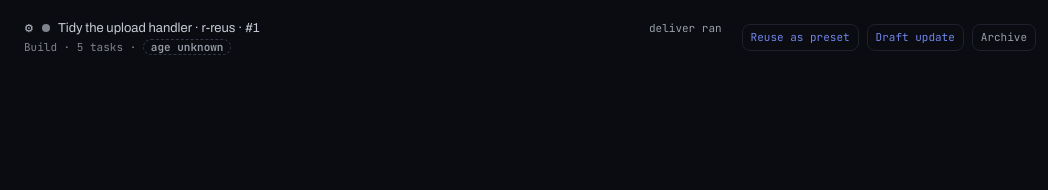
Scenario: idea 11 — a finished run carries its next use › a refused save says why in place and keeps the panel
The image size is (1048, 190).
Click the button with test id "run-reuse-preset".
click(800, 38)  # box [742,24,859,51]
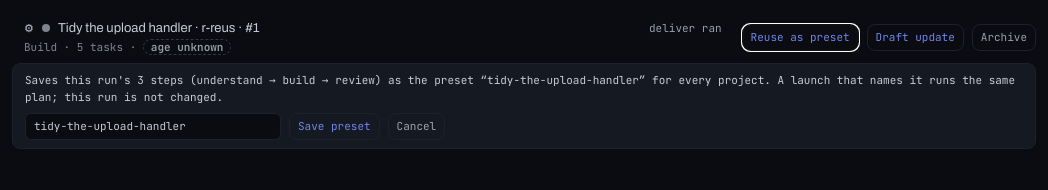
Click the button with test id "run-reuse-save".
click(334, 126)  # box [289,113,380,140]
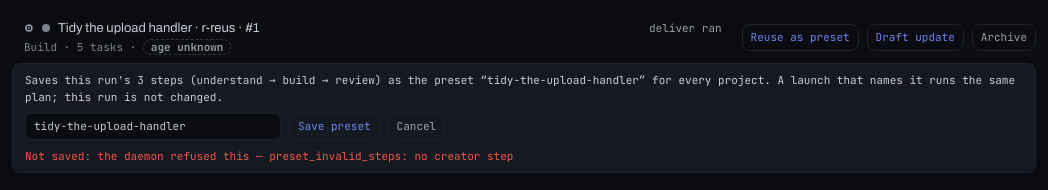
Now the element with test id "run-reuse-panel" is shown, box [12,63,1036,173]
Now the message with test id "run-reuse-error" shows "preset_invalid_steps", box [25,148,513,162]
